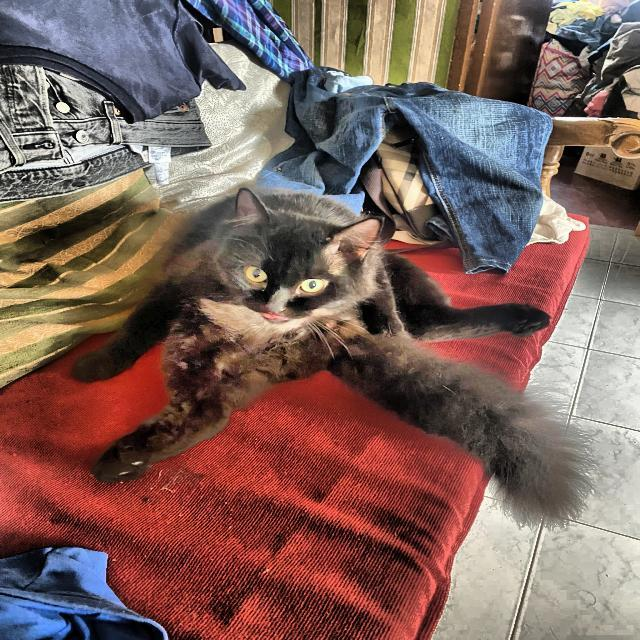Healthy skin: (239, 190, 357, 262), (196, 322, 270, 393)
